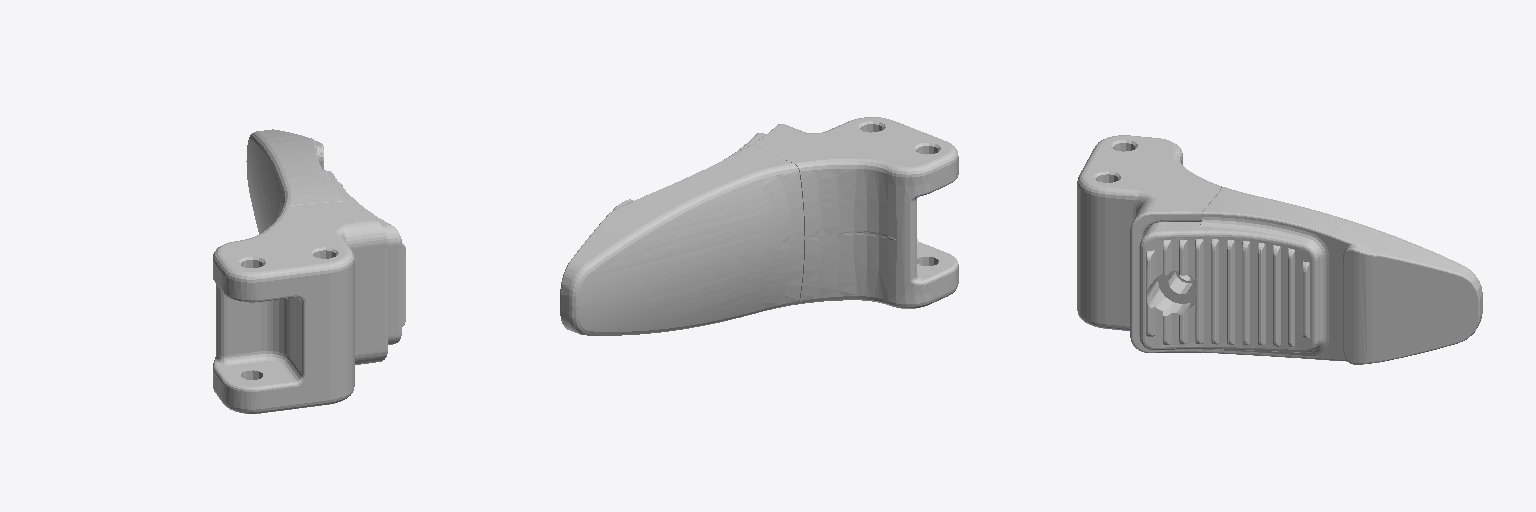
File: l_b_fingers.obj
3 views of the same model, side by side, from view 1: azimuth 30°, elevation 25°; view 2: azimuth 150°, elevation 25°; view 3: azimuth 270°, elevation 25° (orthographic).
Visible parts, largest first — view 1: obj1; view 2: obj1; view 3: obj1.
Boxes of the visible parts, x1,y1,x2,y2 form: obj1: [213, 129, 405, 413]; obj1: [560, 117, 958, 335]; obj1: [1077, 135, 1482, 364].
Bounding box in the file's own units: 0.0323 × 0.02 × 0.0521.